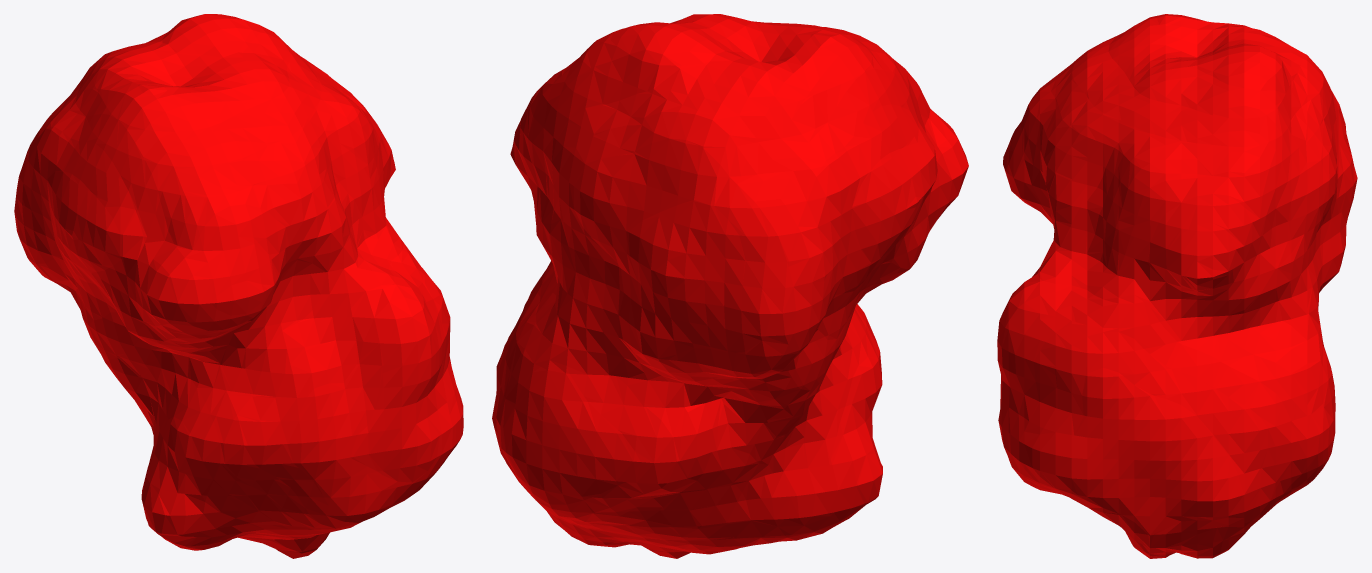
The model's file is murA_coarse.dae.
3 renders of one model, left to right at view 1: azimuth 30°, elevation 25°; view 2: azimuth 150°, elevation 25°; view 3: azimuth 270°, elevation 25°, orthographic. The views are drawn at different scales.
Visible parts, largest first — view 1: murA; view 2: murA; view 3: murA.
Part boxes in pixels (bbox=[...]): murA: bbox=[14, 14, 463, 558]; murA: bbox=[492, 14, 968, 558]; murA: bbox=[997, 14, 1357, 558].
Bounding box in the file's own units: 50.01 × 70.25 × 47.18.
